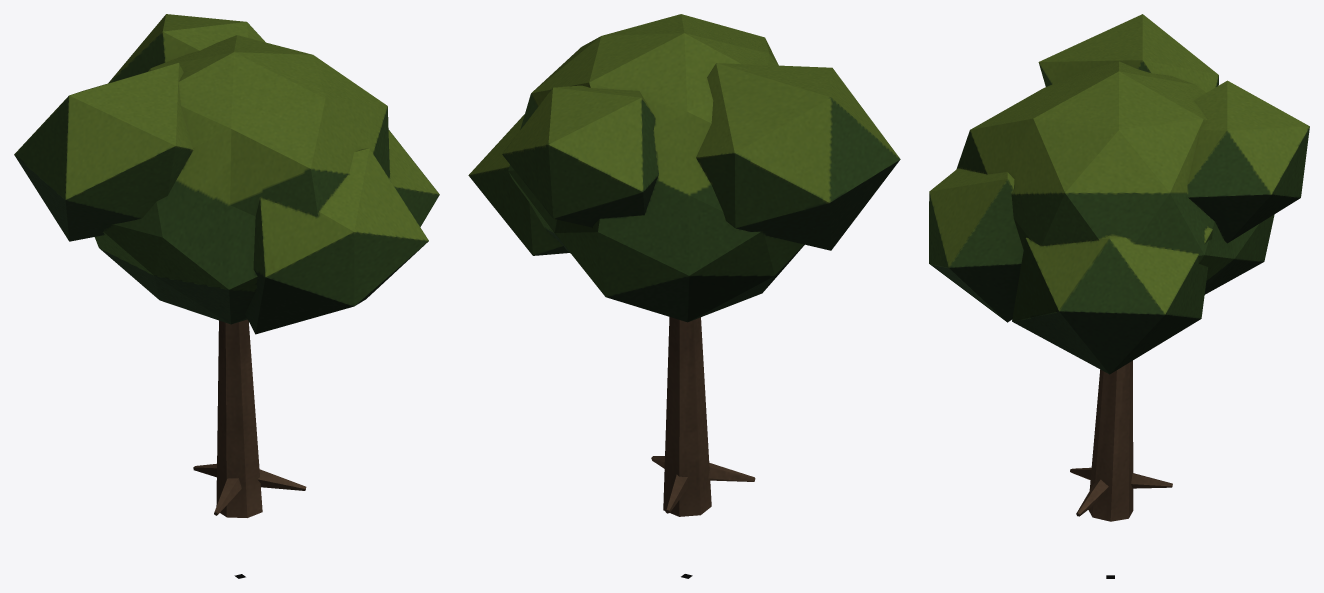
File: feature_tree_3.fbx
The picture shows the model from 3 angles, left to right: view 1: azimuth 30°, elevation 25°; view 2: azimuth 150°, elevation 25°; view 3: azimuth 270°, elevation 25°; orthographic projection. The views are drawn at different scales.
Parts seen in each view (by area): view 1: base_bar; view 2: base_bar; view 3: base_bar.
Part boxes in pixels (x1,y1,x2,y2): base_bar: [14, 14, 439, 517]; base_bar: [468, 14, 900, 516]; base_bar: [929, 14, 1309, 521].
Bounding box in the file's own units: 978 × 1319 × 902.
2 materials, 2 textured.
